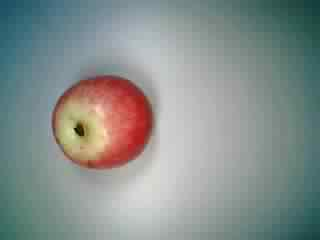apple: (51, 75, 157, 174)
